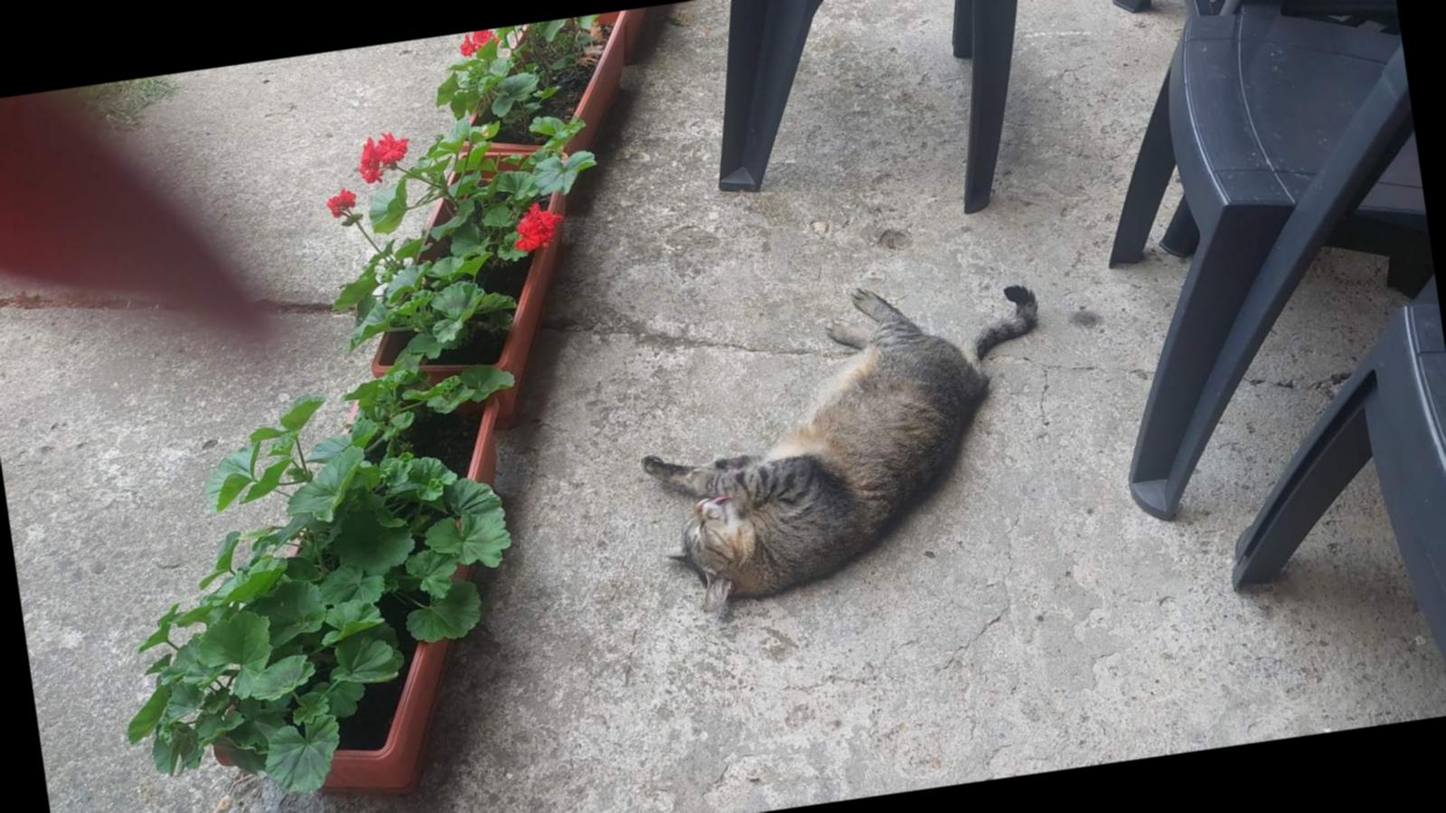macka: (622, 261, 1073, 618)
